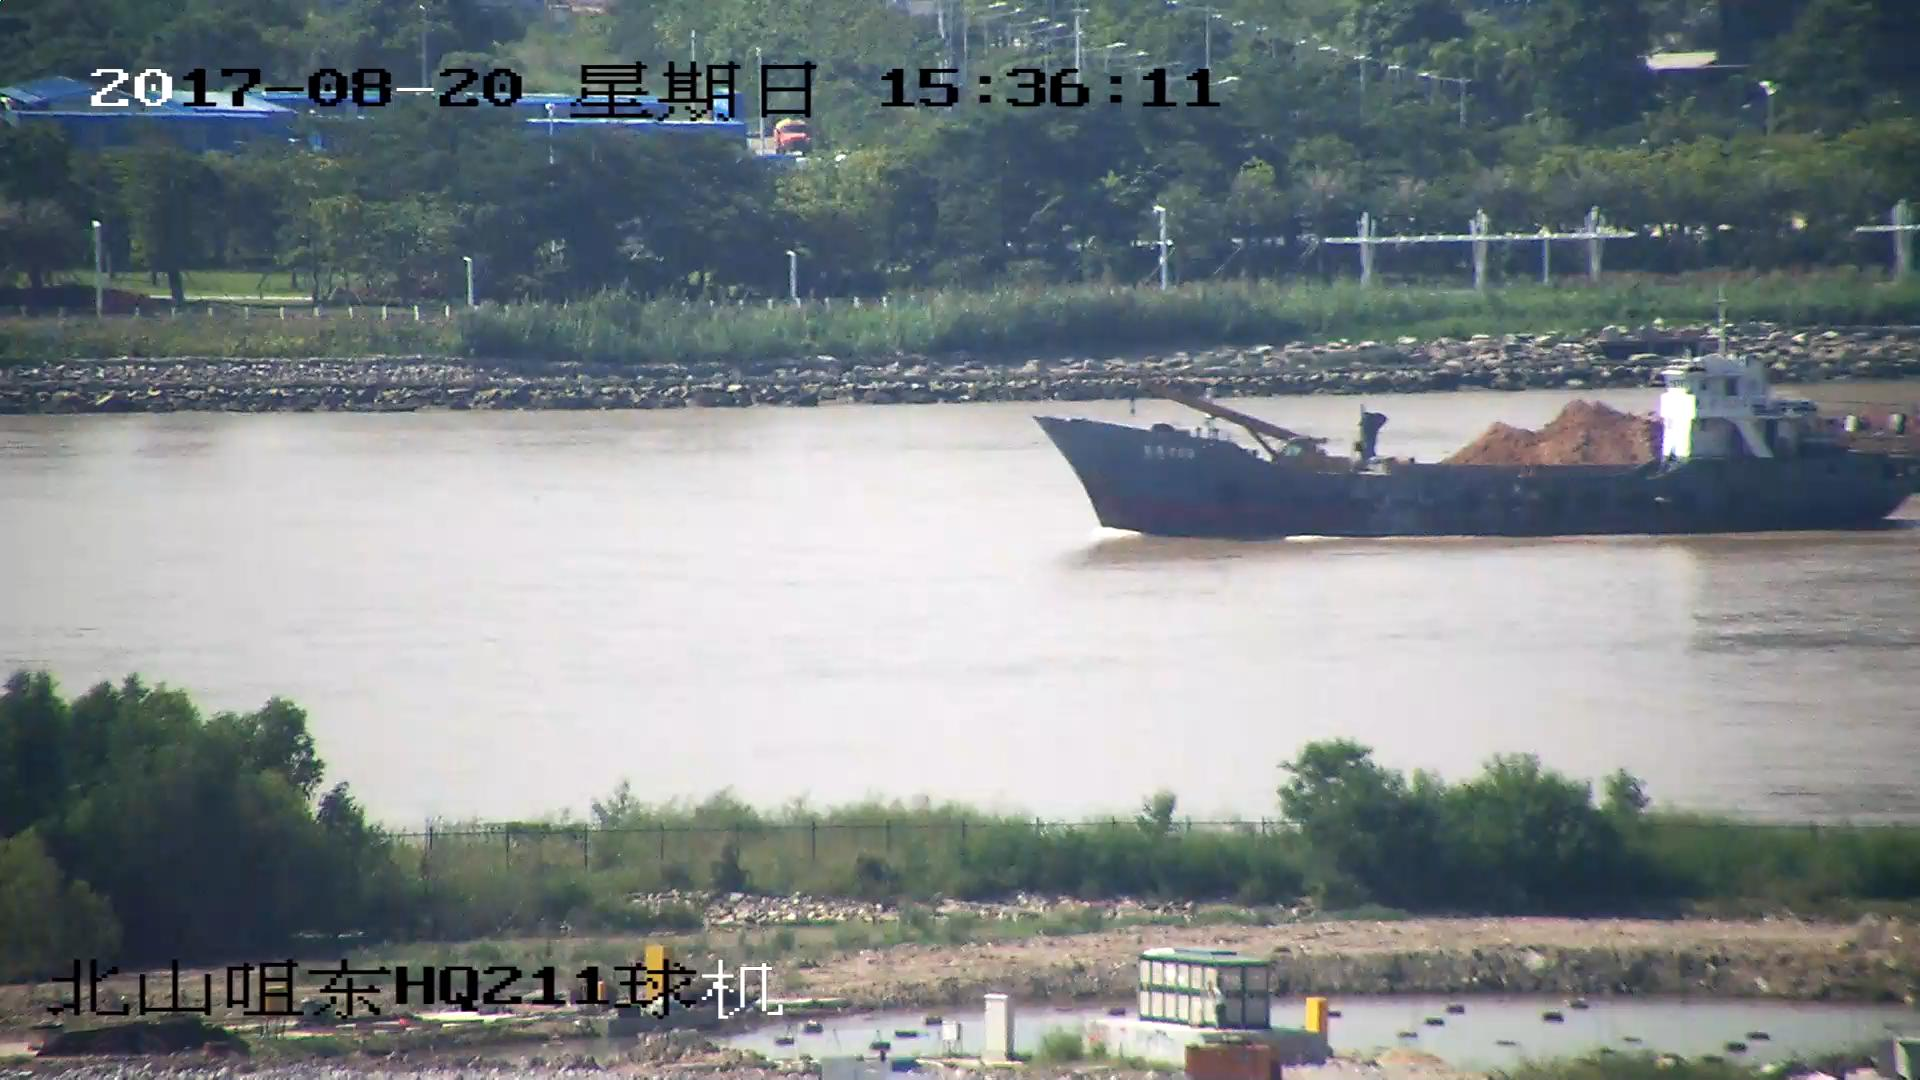general cargo ship: (1040, 274, 1920, 536)
ore carrier: (1233, 395, 1714, 484)
